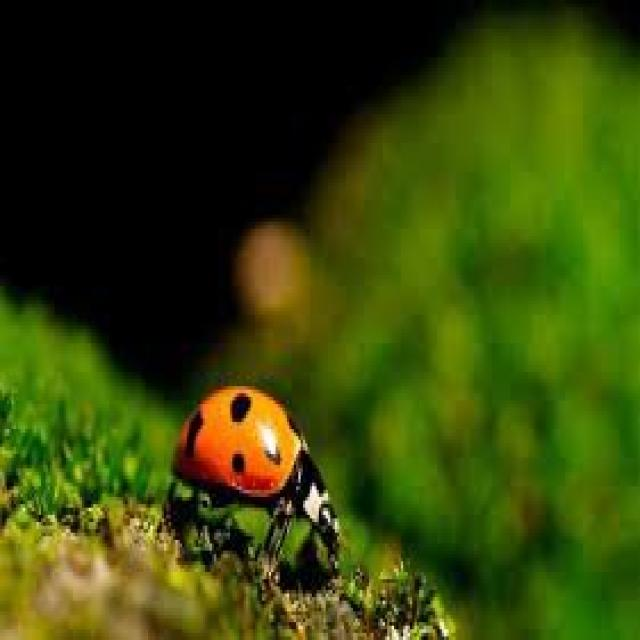ladybug: (173, 386, 337, 561)
